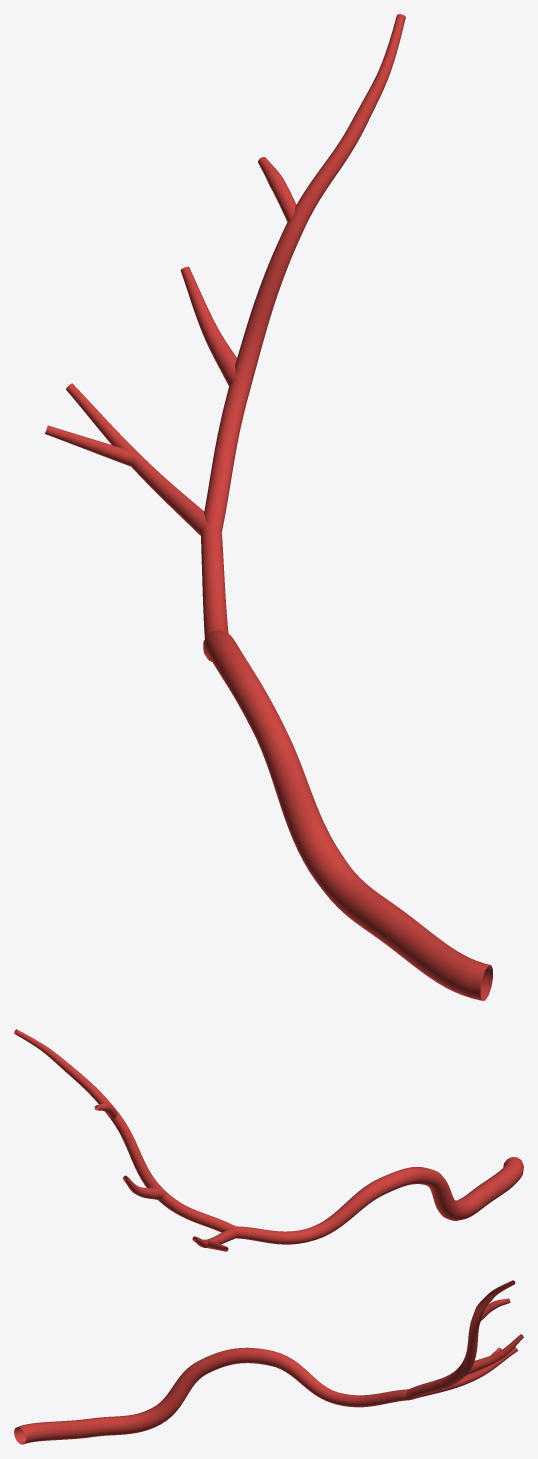
3 views of the same model, one above another, from view 1: azimuth 30°, elevation 25°; view 2: azimuth 150°, elevation 25°; view 3: azimuth 270°, elevation 25° (orthographic). The views are drawn at different scales.
Parts seen in each view (by area): view 1: 阑尾动脉; view 2: 阑尾动脉; view 3: 阑尾动脉.
Part boxes in pixels (bbox=[...]): 阑尾动脉: bbox=[45, 14, 492, 1000]; 阑尾动脉: bbox=[14, 1029, 523, 1251]; 阑尾动脉: bbox=[14, 1280, 523, 1444].
Size of the model in its own units: 0.0499 by 0.0548 by 0.0963.
